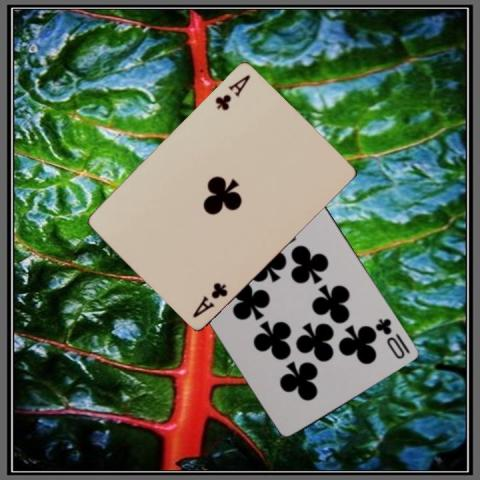10c: (373, 314, 412, 360)
Ac: (190, 278, 230, 318), (212, 72, 252, 111)
